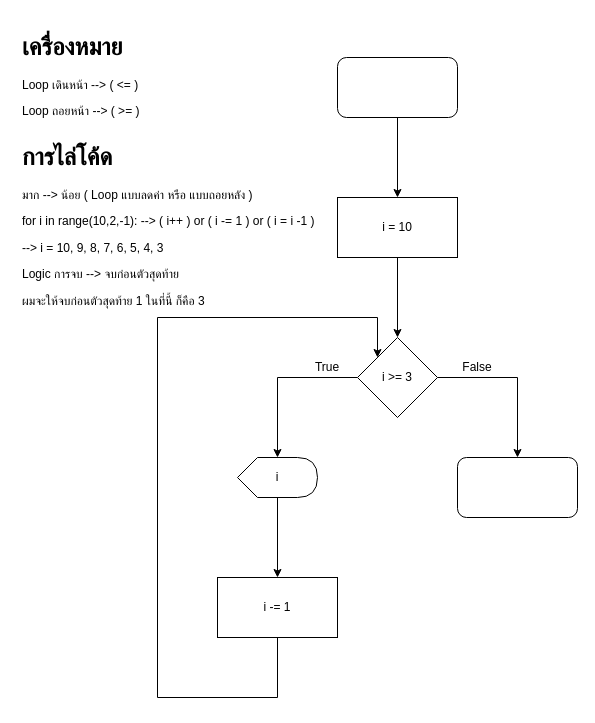
Image size: 595x723. Some labels were removed from this diagram. Each missing label, with the centre of its shape:
"End" belongs at (x=517, y=487).
"start" belongs at (x=397, y=87).
